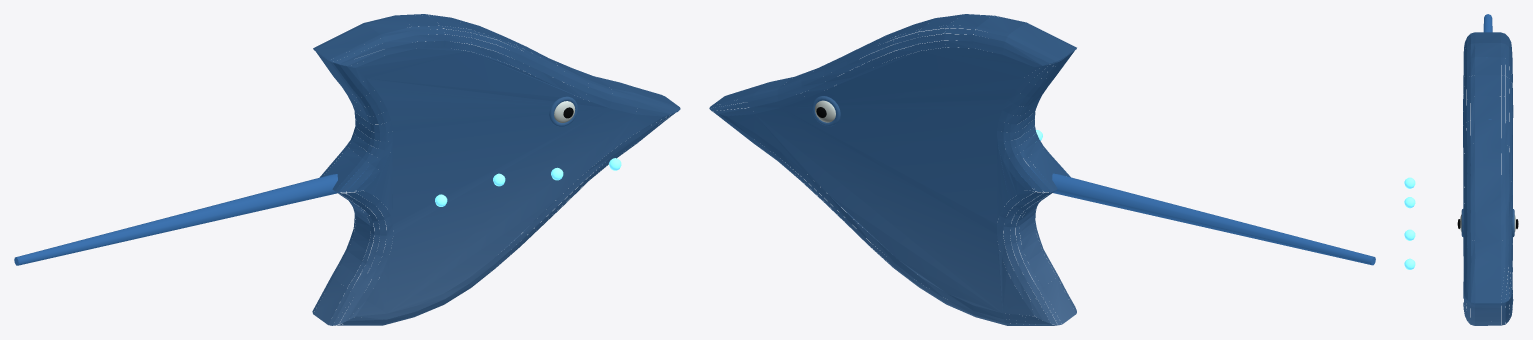
File: deep-ray.glb
3 views of the same model, side by side, from view 1: azimuth 30°, elevation 25°; view 2: azimuth 150°, elevation 25°; view 3: azimuth 270°, elevation 25° (orthographic). The views are drawn at different scales.
Parts seen in each view (by area): view 1: body, tail_fin; view 2: body, tail_fin; view 3: body, photophore (×4), tail_fin.
Boxes of the visible parts, <box> form: body: <box>312,14,680,325</box>; tail_fin: <box>14,173,367,265</box>; body: <box>709,14,1076,325</box>; tail_fin: <box>1021,167,1375,265</box>; body: <box>1463,32,1513,325</box>; photophore (×4): <box>1404,177,1415,269</box>; tail_fin: <box>1483,14,1492,119</box>.
Bounding box in the file's own units: 4.15 × 1.76 × 0.7002.
